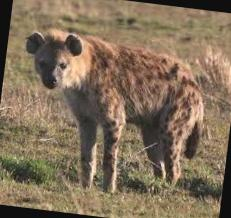hyenas: (6, 15, 222, 203)
